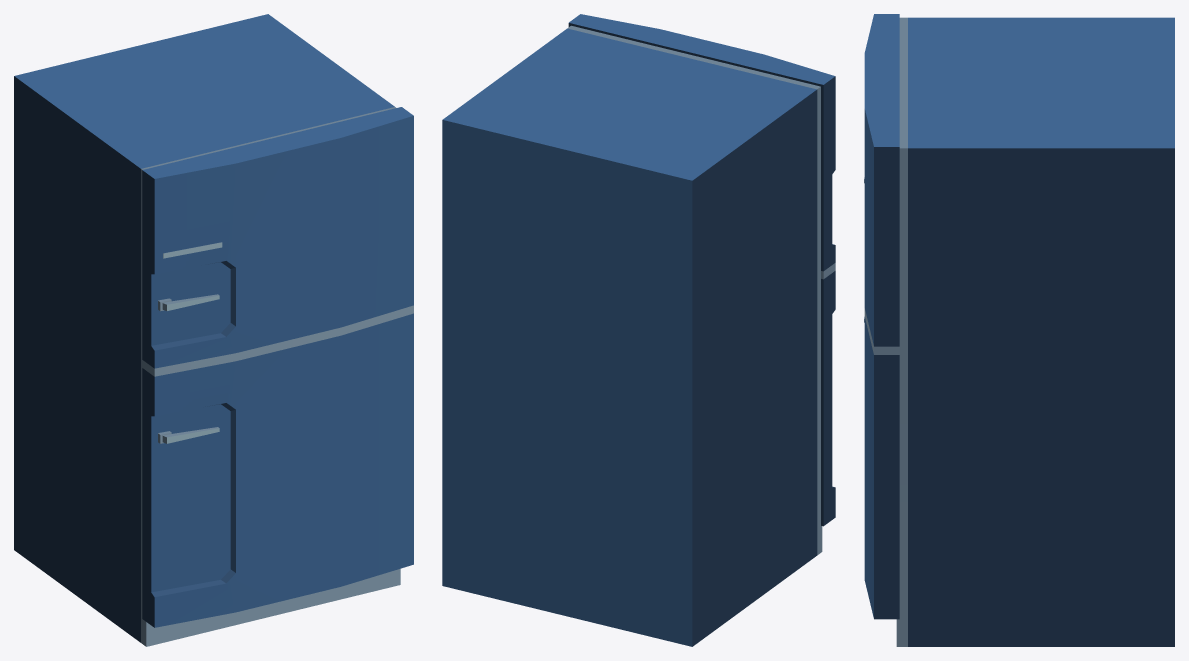
Rendered from SM_GameArea_Fridge_01.fbx.
The picture shows the model from 3 angles, left to right: view 1: azimuth 30°, elevation 25°; view 2: azimuth 150°, elevation 25°; view 3: azimuth 270°, elevation 25°; orthographic projection. The views are drawn at different scales.
Parts seen in each view (by area): view 1: SM_GameArea_Fridge_01; view 2: SM_GameArea_Fridge_01; view 3: SM_GameArea_Fridge_01.
Part boxes in pixels (left/top/right/bottom): SM_GameArea_Fridge_01: left=14, top=14, right=413, bottom=646; SM_GameArea_Fridge_01: left=442, top=14, right=835, bottom=646; SM_GameArea_Fridge_01: left=864, top=14, right=1174, bottom=646.
Size of the model in its own units: 2 by 3.51 by 1.97.
1 material, 1 textured.
